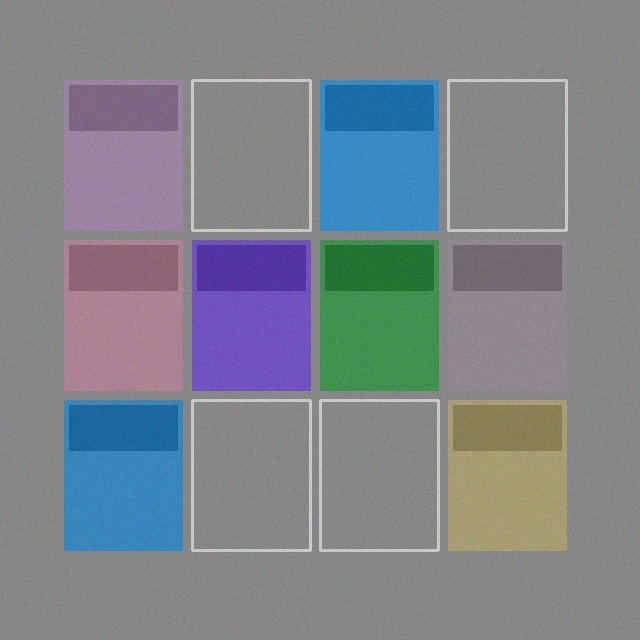space-empty: (192, 80, 310, 230), (448, 80, 566, 230), (192, 400, 310, 550), (320, 400, 438, 550)
space-occupied: (64, 80, 182, 230), (320, 80, 438, 230), (64, 240, 182, 390), (192, 240, 310, 390), (320, 240, 438, 390), (448, 240, 566, 390), (64, 400, 182, 550), (448, 400, 566, 550)
